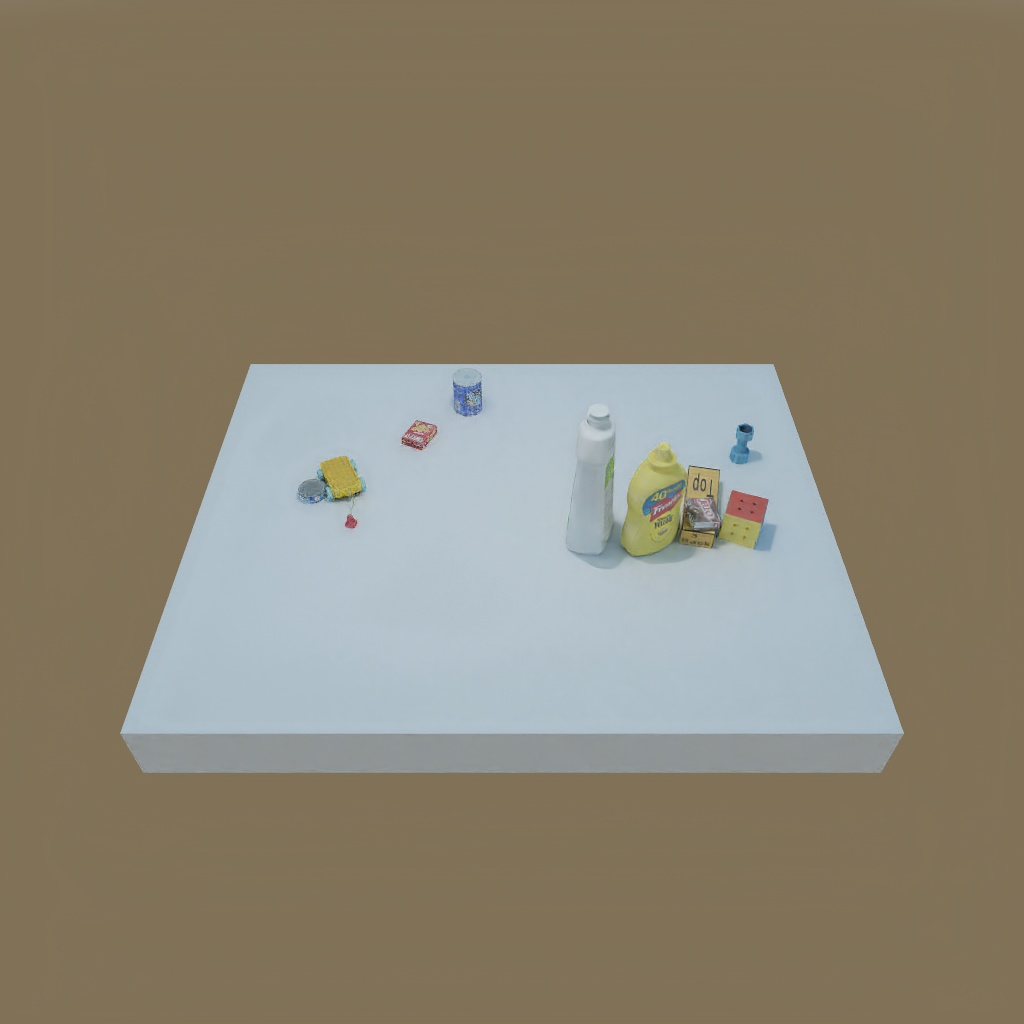jenga: (679, 456, 720, 556)
master_chef_can: (449, 374, 483, 414)
mustard_bottle: (622, 442, 683, 553)
pudding_box: (683, 492, 718, 536)
rubiks_cube: (719, 488, 767, 551)
